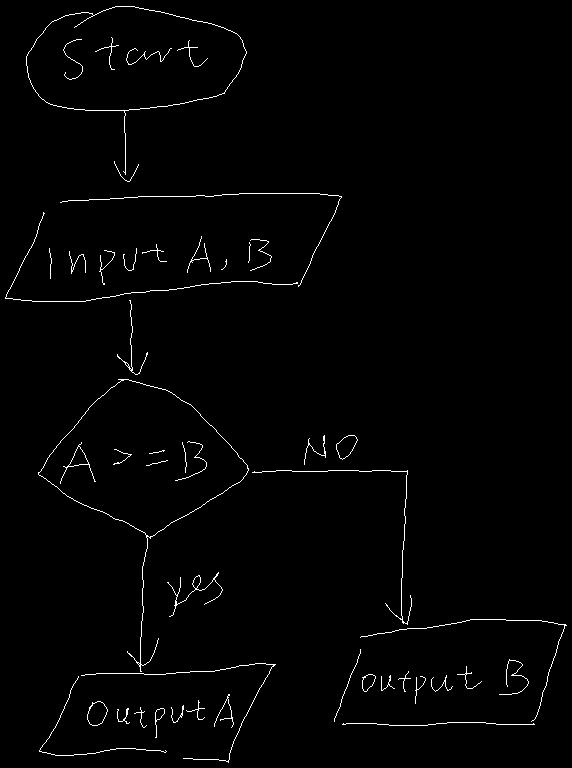arrow: (252, 470, 411, 624), (127, 535, 158, 671), (117, 300, 147, 374), (114, 110, 138, 181)
data: (5, 193, 341, 301), (334, 619, 566, 725), (39, 663, 275, 762)
decision: (38, 379, 248, 538)
terminator: (26, 6, 246, 110)
text: (49, 236, 271, 284), (362, 659, 528, 703), (87, 694, 233, 737), (60, 441, 206, 483), (63, 37, 207, 79), (167, 572, 222, 616), (304, 435, 357, 464)
